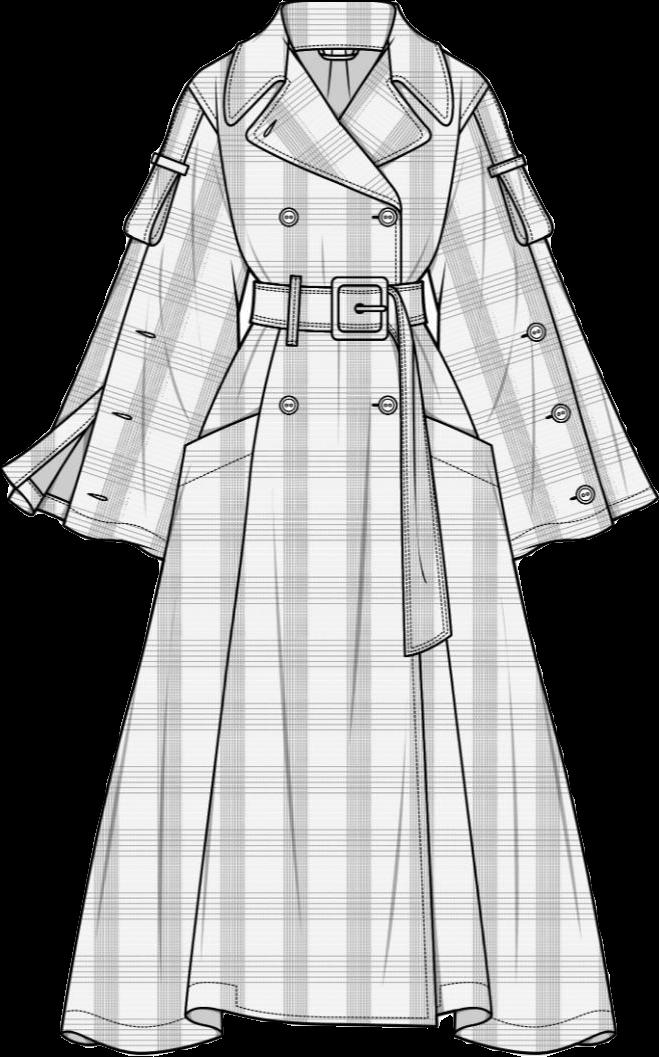Bodice: (184, 1, 493, 333)
Hemline: (58, 1000, 609, 1056)
Neckline: (273, 2, 404, 124), (252, 272, 424, 294)
Skirt: (61, 323, 614, 1054)
Sleeve: (2, 86, 251, 547), (427, 89, 658, 563)
Sleeveline: (179, 76, 261, 280), (419, 83, 501, 273)
Waistline: (248, 314, 429, 341)
